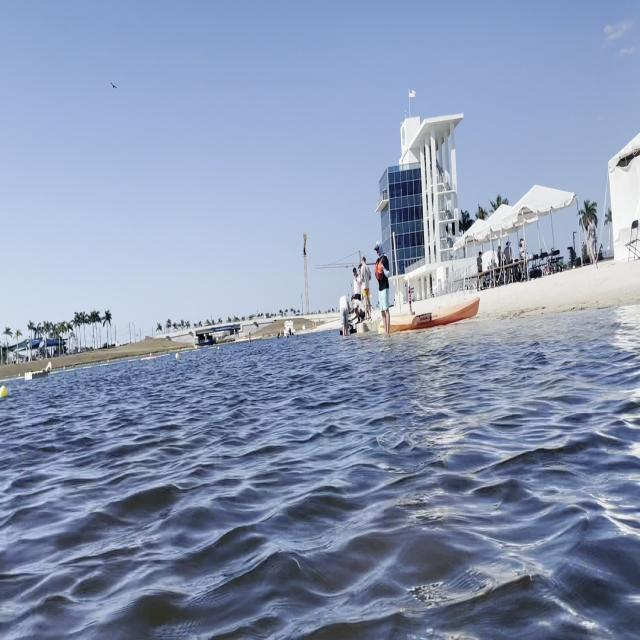buoy: (0, 383, 9, 400), (174, 350, 180, 362)
